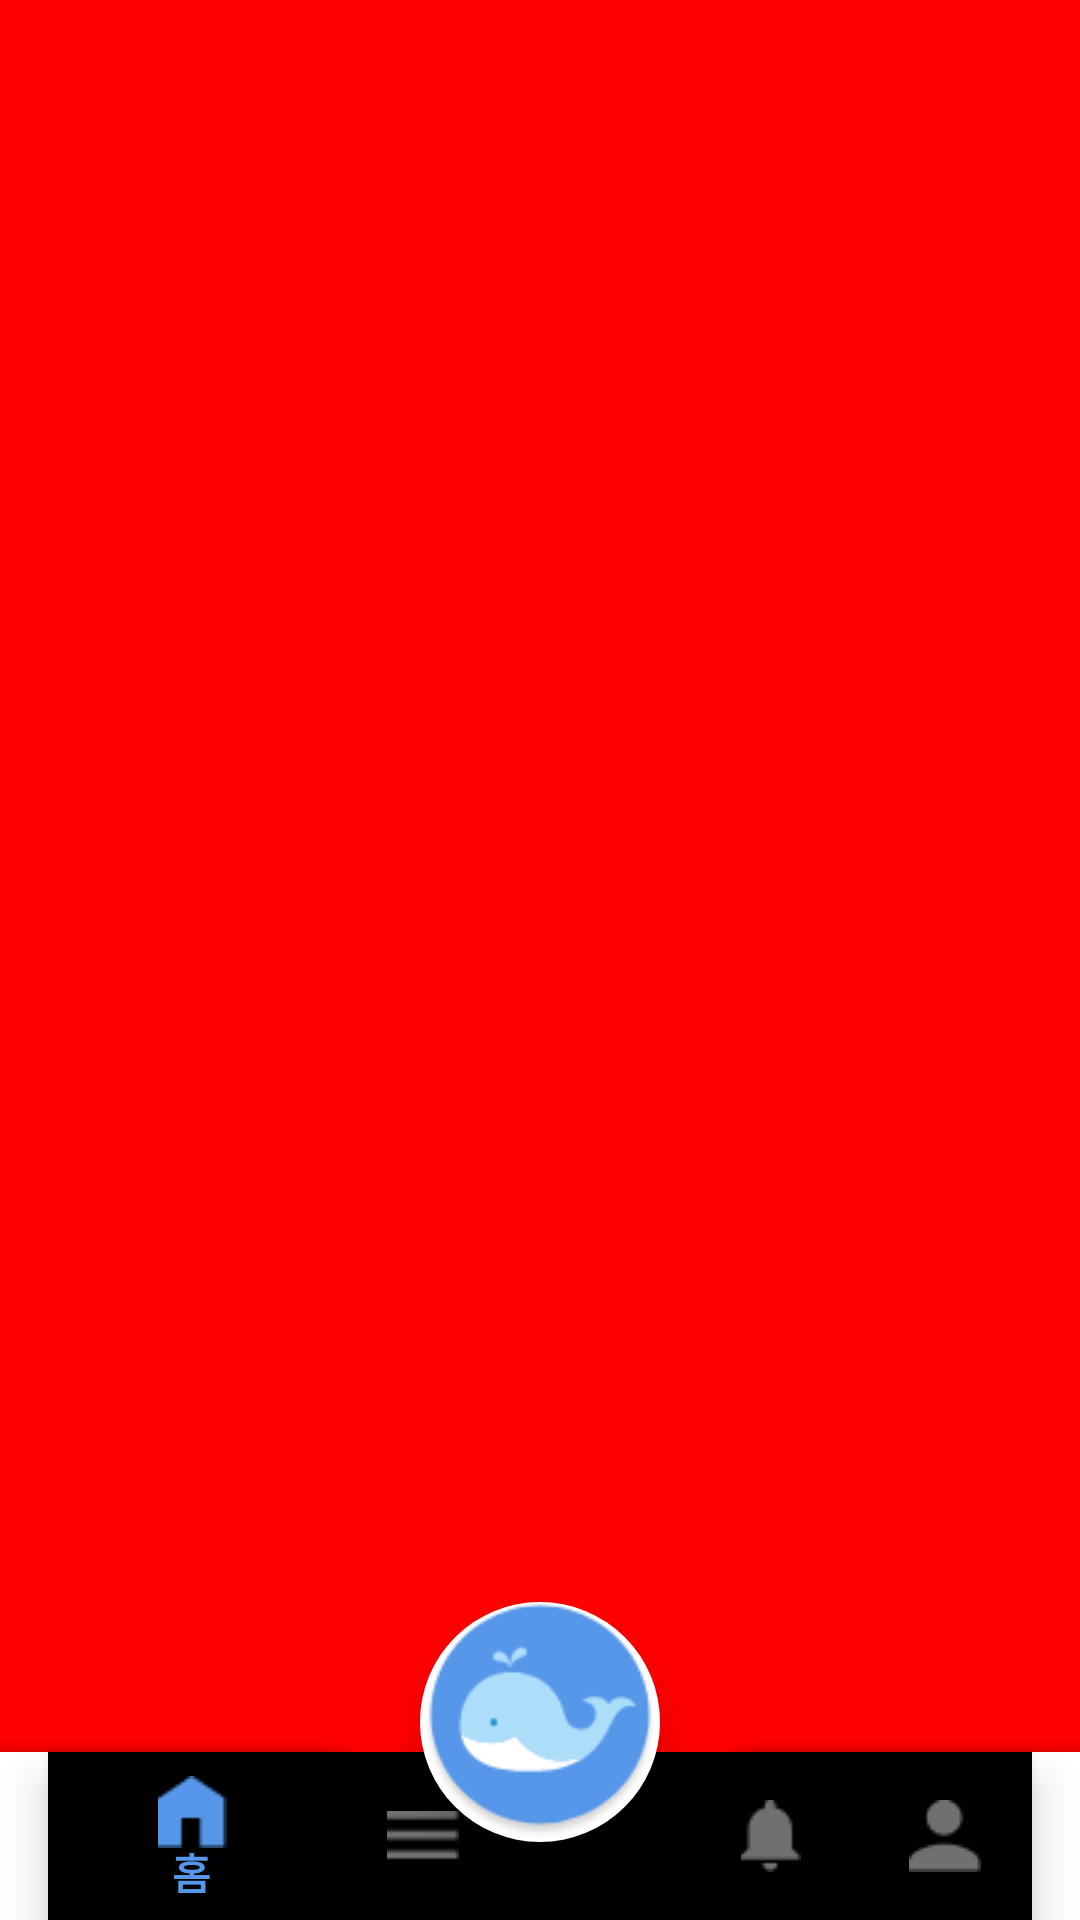

Icons on this 1080px×1920px Android screen, each with the point to tap as [x,y]:
whale fab: [540,1752]
